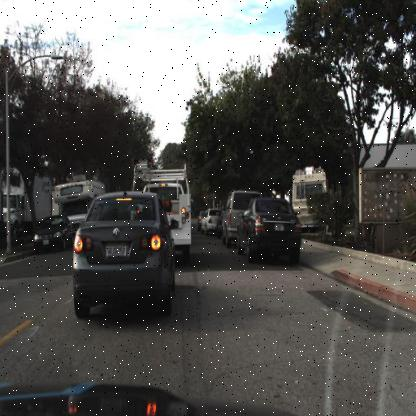car: (72, 193, 174, 317), (234, 195, 301, 262), (164, 160, 193, 272), (54, 176, 108, 225), (291, 166, 327, 228), (220, 190, 260, 242), (33, 212, 71, 250), (220, 186, 240, 252), (200, 207, 217, 234)
truck: (141, 171, 191, 253), (283, 159, 332, 237), (2, 170, 52, 235), (57, 180, 97, 238)
